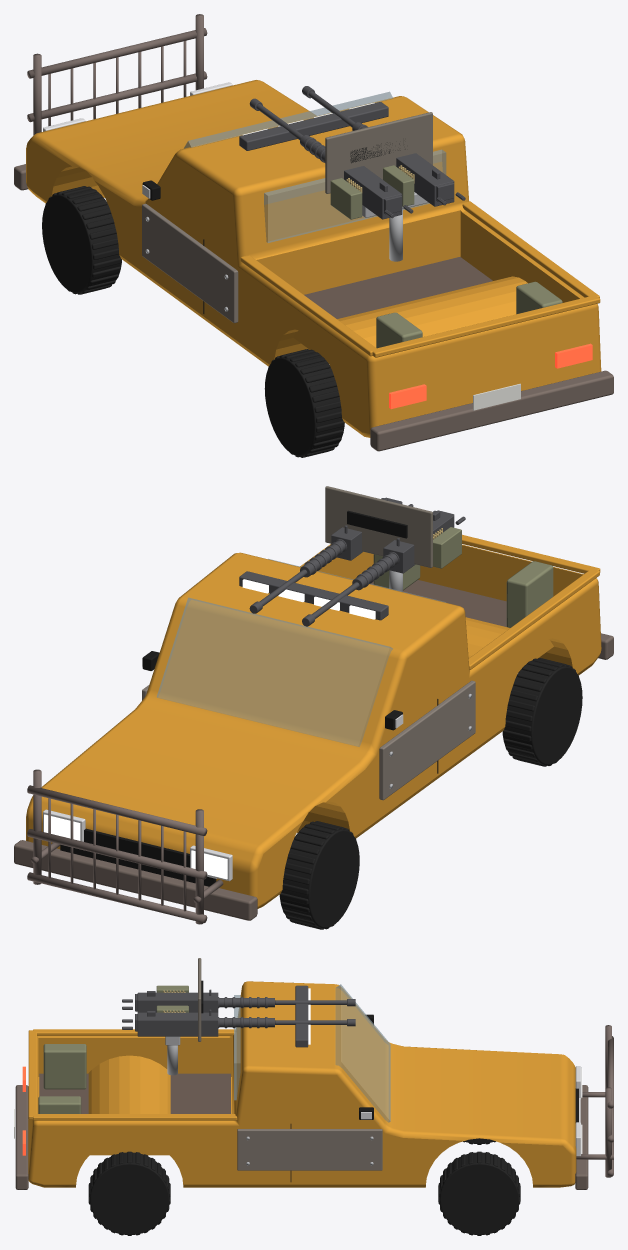
Rendered from pickup1.glb.
3 renders of one model, top to bottom at view 1: azimuth 30°, elevation 25°; view 2: azimuth 150°, elevation 25°; view 3: azimuth 270°, elevation 25°, orthographic. The views are drawn at different scales.
Parts seen in each view (by area): view 1: body, tire.001, tire, bumper_r, plate.001, bed_floor, shield, rear_glass, mg, lightbar, mg.001, tailgate_edge (+16 smaller); view 2: body, windshield, tire.001, tire, plate.001, bumper_f, shield, mg, grille, jerrycan, bed_floor, mg.001 (+12 smaller); view 3: body, plate.002, tire.003, tire.002, windshield, bed_floor, mg.001, mg, jerrycan, bed_rail.001, bumper_r, bumper_f (+7 smaller).
Boxes of the visible parts, x1,y1,x2,y2 form: body: (26,80,601,437); tire.001: (264,349,344,457); tire: (42,186,121,294); bumper_r: (370,370,613,451); plate.001: (142,203,238,323); bed_floor: (304,257,492,318); shield: (325,112,432,193); rear_glass: (264,149,446,242); mg: (249,98,413,219); lightbar: (239,102,388,150); mg.001: (302,86,465,206); tailgate_edge: (372,295,600,357); body: (26,544,601,908); windshield: (156,597,392,746); tire.001: (502,658,582,766); tire: (279,821,359,929); plate.001: (379,680,475,800); bumper_f: (14,840,257,920); shield: (325,486,432,567); mg: (302,510,465,626); grille: (60,828,216,886); jerrycan: (506,561,553,627); bed_floor: (371,580,506,626); mg.001: (249,497,413,613); body: (28,981,576,1187); plate.002: (237,1129,382,1170); tire.003: (88,1151,170,1235); tire.002: (438,1151,520,1235); windshield: (335,984,390,1122); bed_floor: (39,1073,230,1113); mg.001: (122,1009,355,1036); mg: (122,989,355,1012); jerrycan: (43,1044,86,1089); bed_rail.001: (33,1114,237,1120); bumper_r: (15,1085,28,1189); bumper_f: (575,1085,588,1189).
Bounding box in the file's own units: 2.26 × 2.13 × 5.58.
